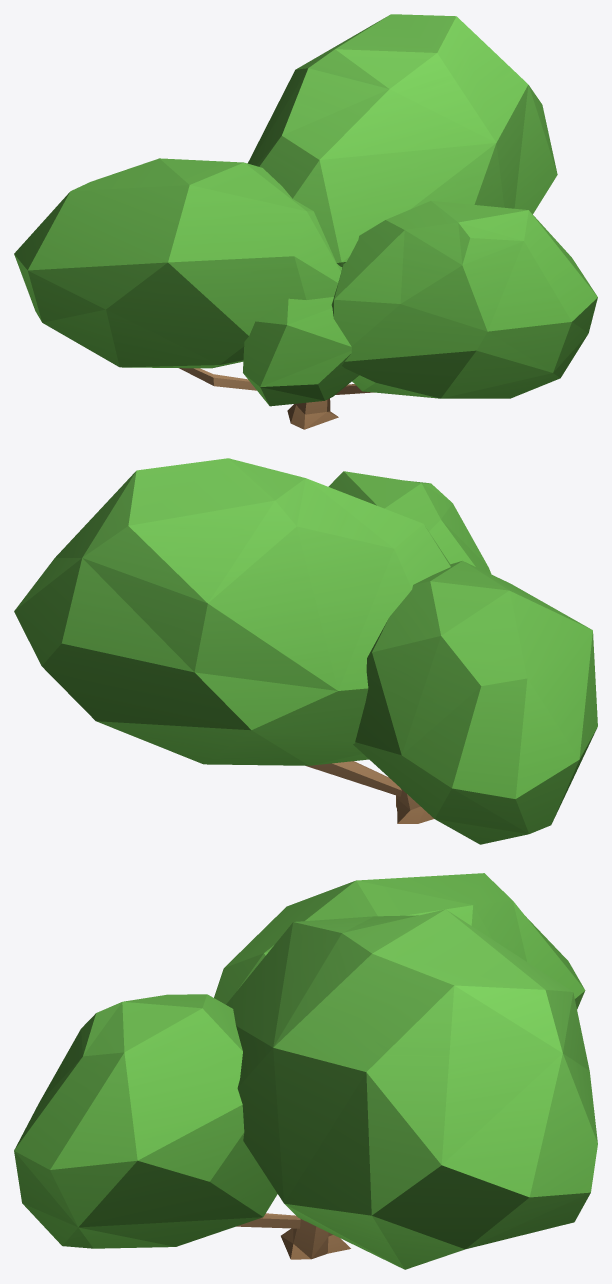
File: bush_cluster_green.fbx
The picture shows the model from 3 angles, top to bottom: view 1: azimuth 30°, elevation 25°; view 2: azimuth 150°, elevation 25°; view 3: azimuth 270°, elevation 25°; orthographic projection. The views are drawn at different scales.
Parts seen in each view (by area): view 1: bush_cluster_green; view 2: bush_cluster_green; view 3: bush_cluster_green.
Part boxes in pixels (<box>): bush_cluster_green: <box>14,14,597,429</box>; bush_cluster_green: <box>14,458,597,844</box>; bush_cluster_green: <box>14,873,597,1269</box>.
Size of the model in its own units: 4.35 by 2.55 by 3.5.
Materials: 1 (1 with a texture image).
